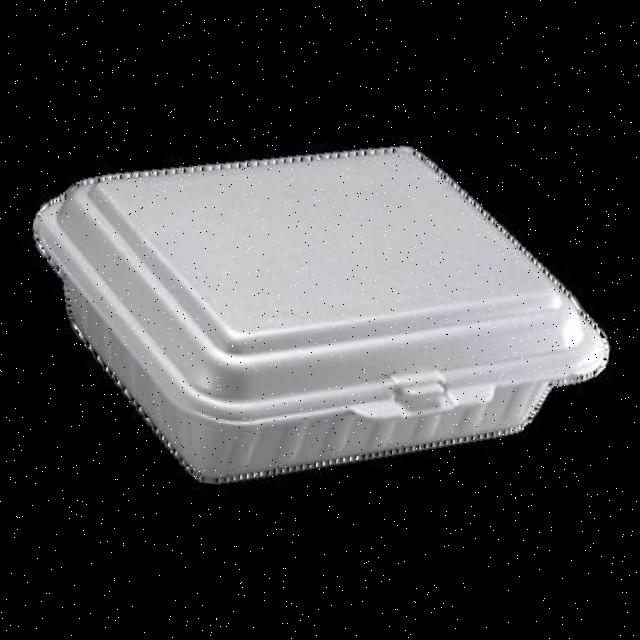styrofoam: (1, 98, 632, 532)
